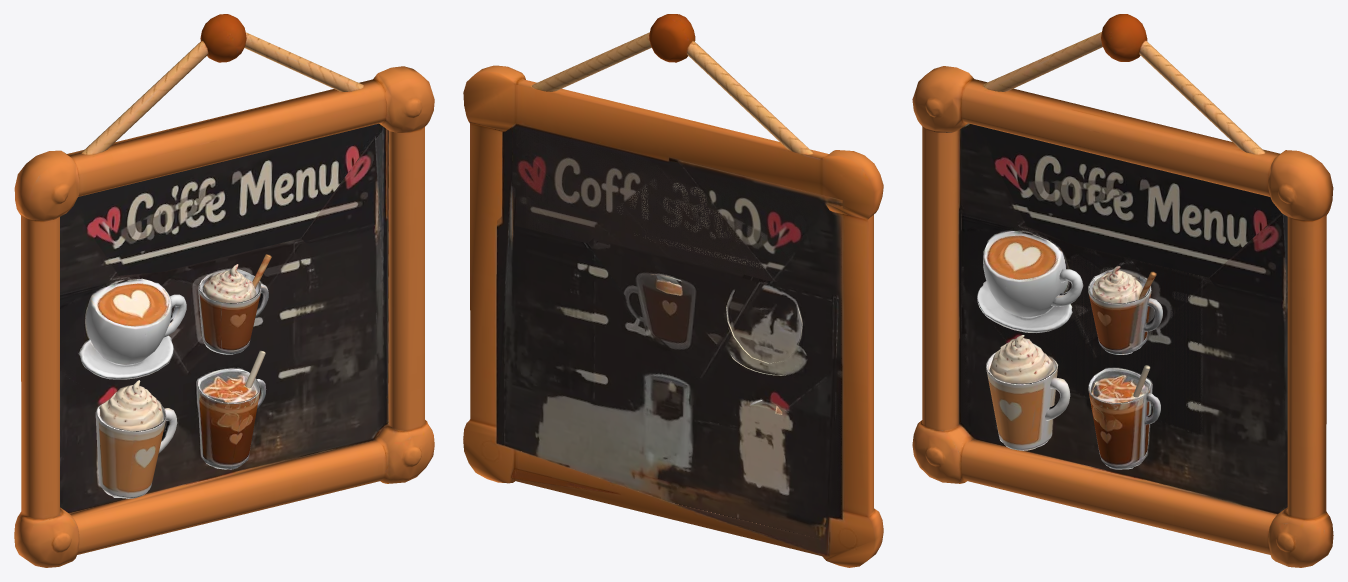
The model's file is cafe-wall-menu.glb.
The picture shows the model from 3 angles, left to right: view 1: azimuth 30°, elevation 25°; view 2: azimuth 150°, elevation 25°; view 3: azimuth 330°, elevation 25°; orthographic projection.
Bounding box in the file's own units: 0.8091 × 0.9521 × 0.1021.
1 material, 1 textured.
